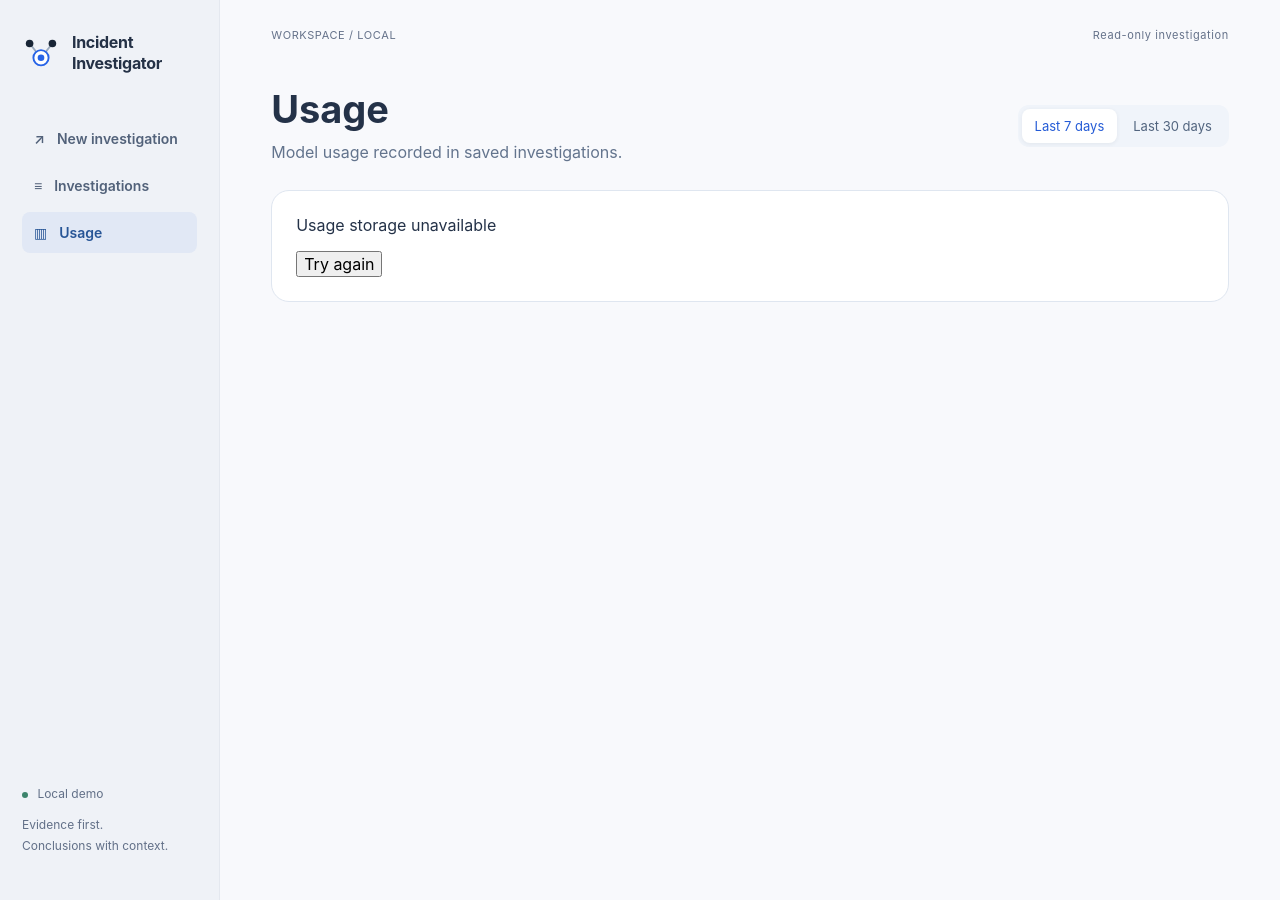
Test: offers a retry after storage fails
Expected: the message reads "Usage storage unavailable", [296,215,496,235]
Click the button "Try again" at (339, 264), box [296,251,382,277]
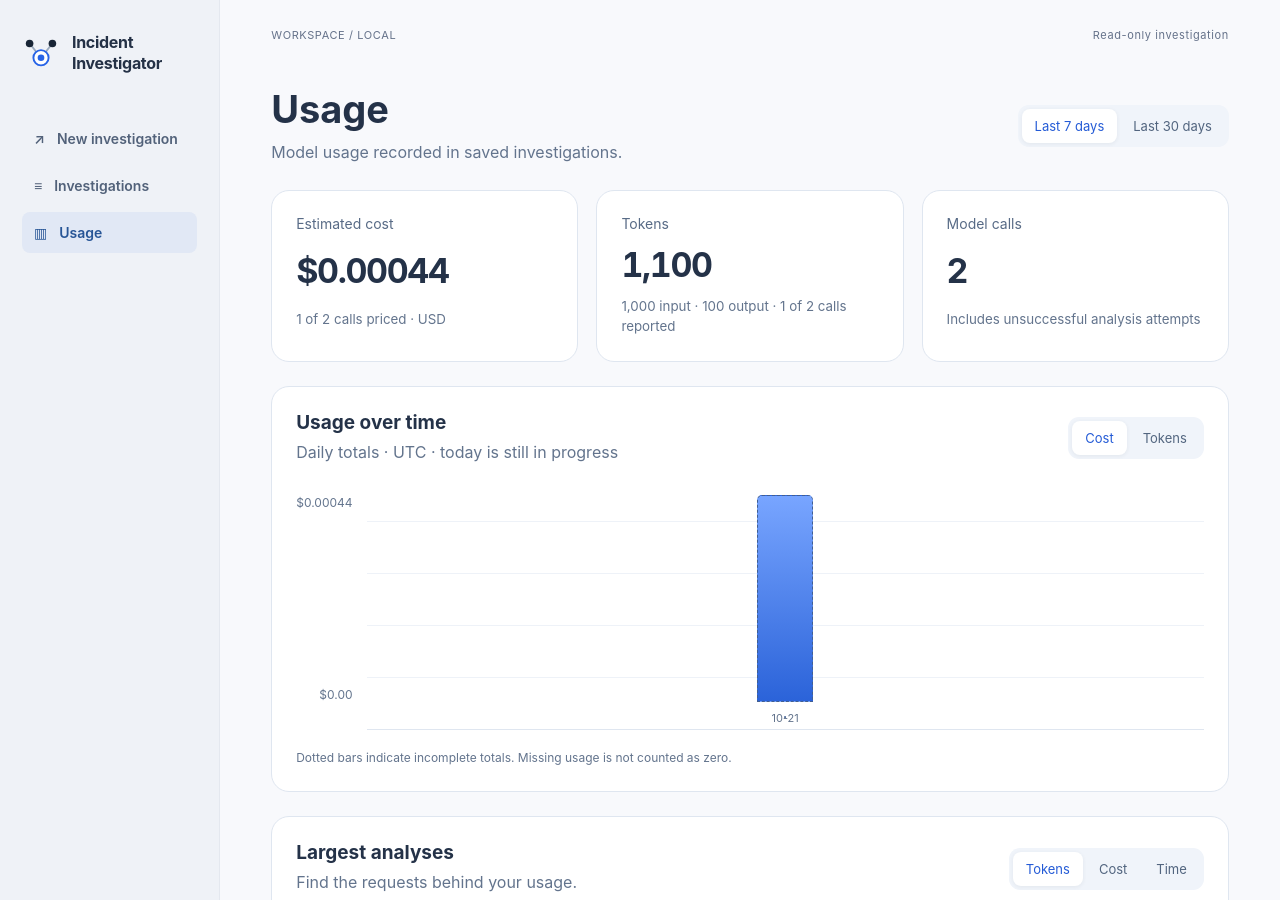
Expected: the heading "Usage over time" is shown, [296,411,446,434]
